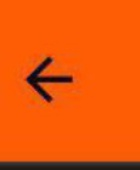ImgButton: (1, 1, 139, 169)
